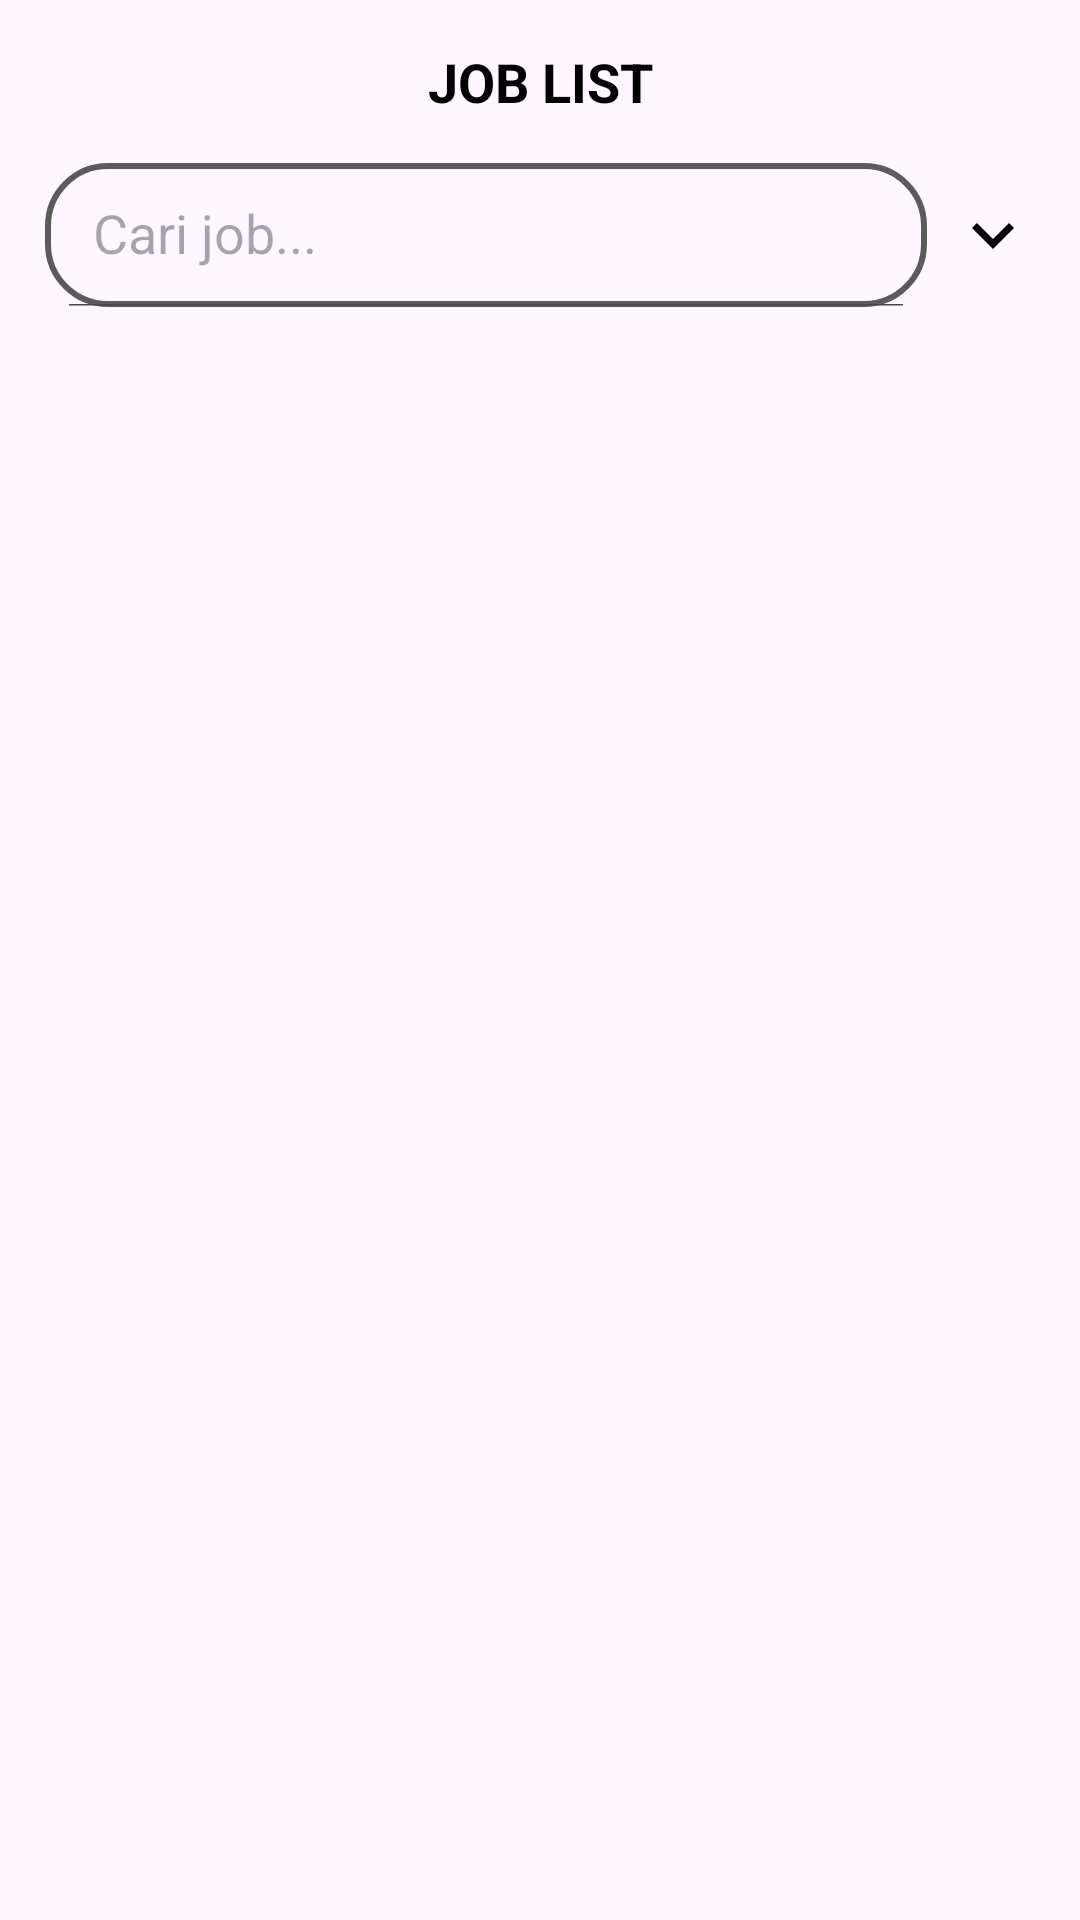

Where icons sit on this 1080*1920 app screen, as (x1, y1, x2, y2):
keyboard arrow down: (972, 223, 1014, 249)
